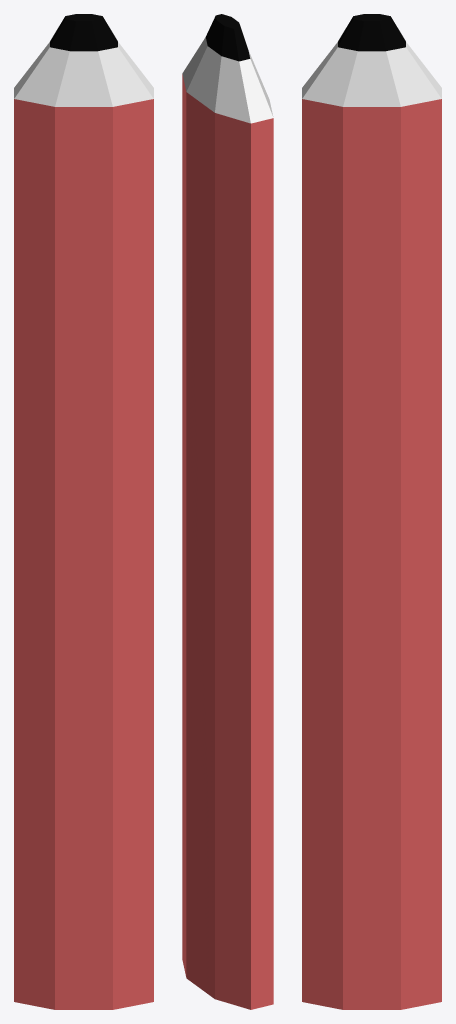
File: pencil02.obj
3 renders of one model, left to right at view 1: azimuth 90°, elevation 25°; view 2: azimuth 210°, elevation 25°; view 3: azimuth 270°, elevation 25°, orthographic.
Visible parts, largest first — view 1: Cylinder_Cylinder.003; view 2: Cylinder_Cylinder.003; view 3: Cylinder_Cylinder.003.
Boxes of the visible parts, left/top/right/bottom form: Cylinder_Cylinder.003: left=14, top=14, right=153, bottom=1009; Cylinder_Cylinder.003: left=182, top=14, right=273, bottom=1009; Cylinder_Cylinder.003: left=302, top=14, right=441, bottom=1009.
Size of the model in its own units: 0.00656 by 0.11 by 0.0142.
1 material, 1 textured.
